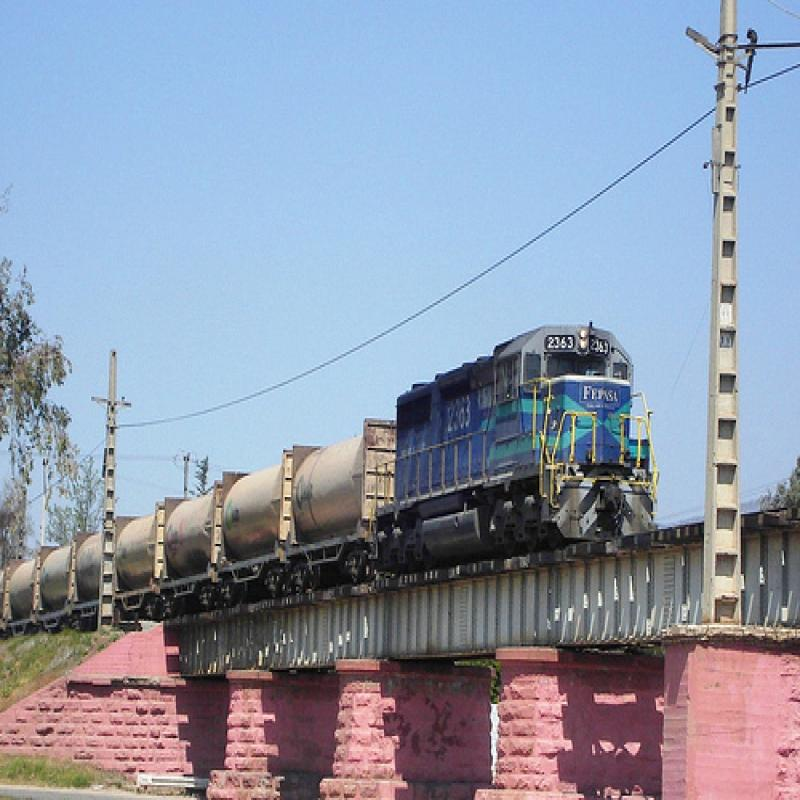train: (1, 318, 655, 632)
